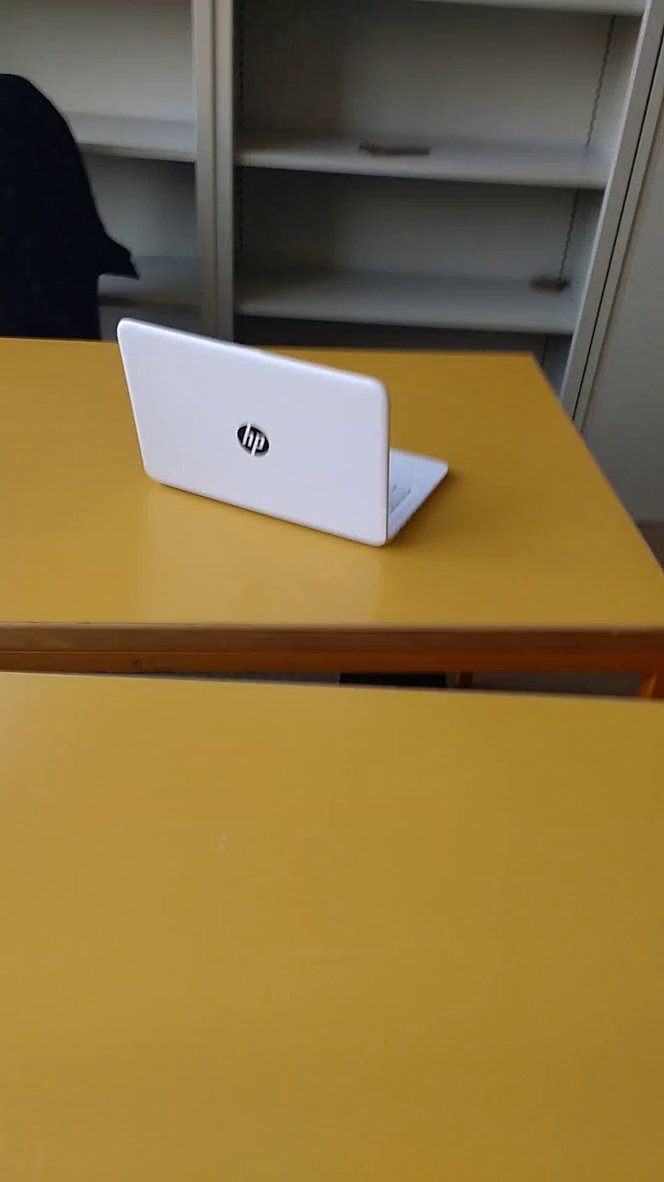laptop: (110, 305, 454, 550)
